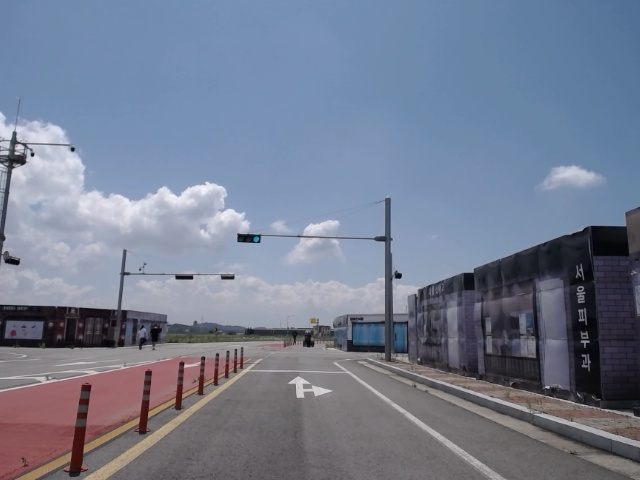green_3: (237, 234, 262, 243)
